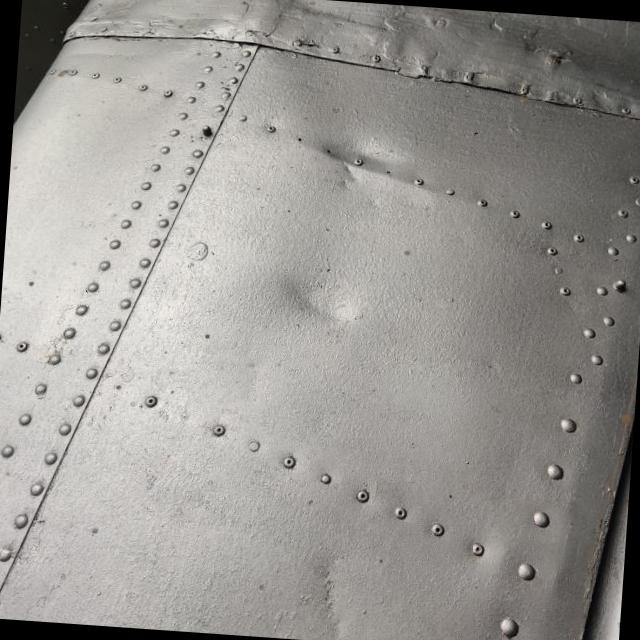Dent: (251, 226, 381, 352), (301, 96, 439, 211)
